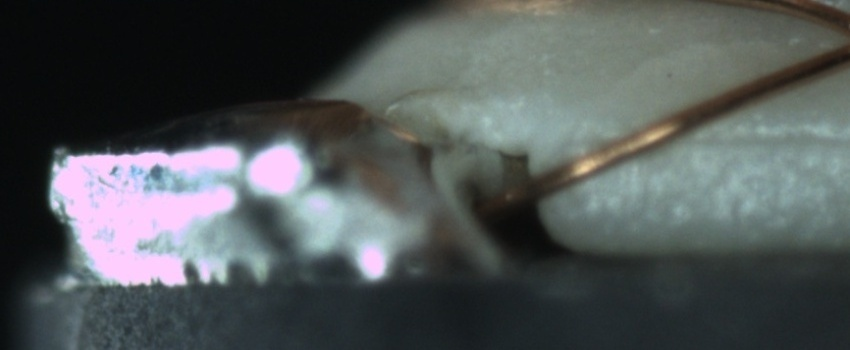CL: (833, 9, 850, 64)
DL: (673, 105, 849, 173)
